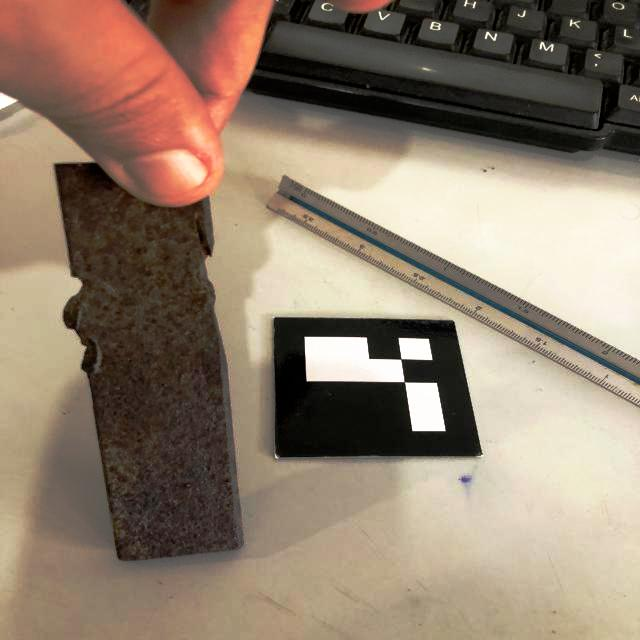Corrosion: (54, 162, 246, 562)
